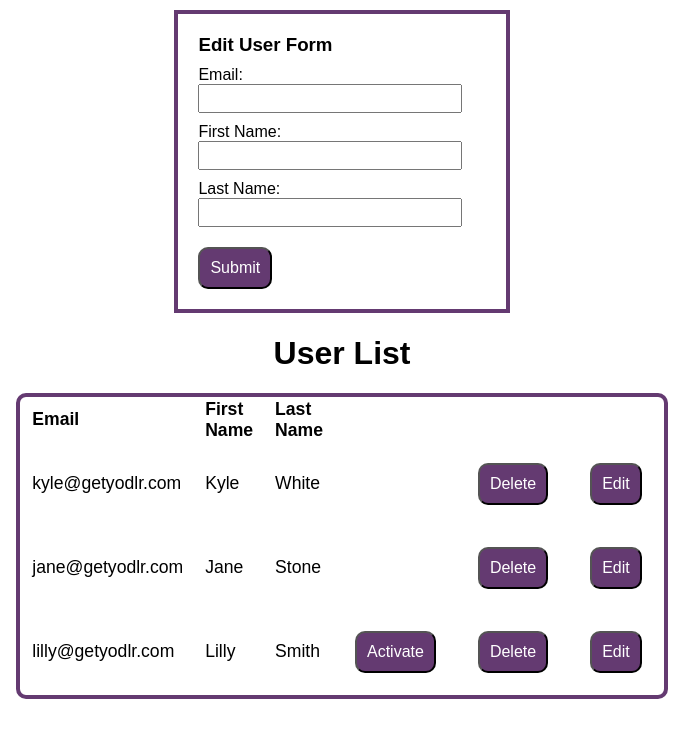
activates a user
The width and height of the screenshot is (685, 754).
Click the button with test id "activate3" at (395, 652), box left=355, top=631, right=436, bottom=673
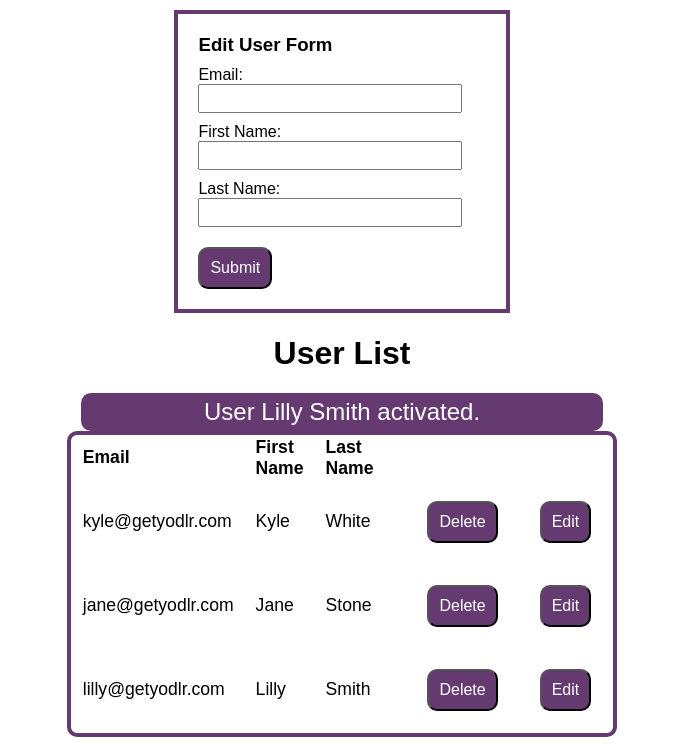
Now the text "User Lilly Smith activated." is shown, box left=81, top=393, right=603, bottom=431
